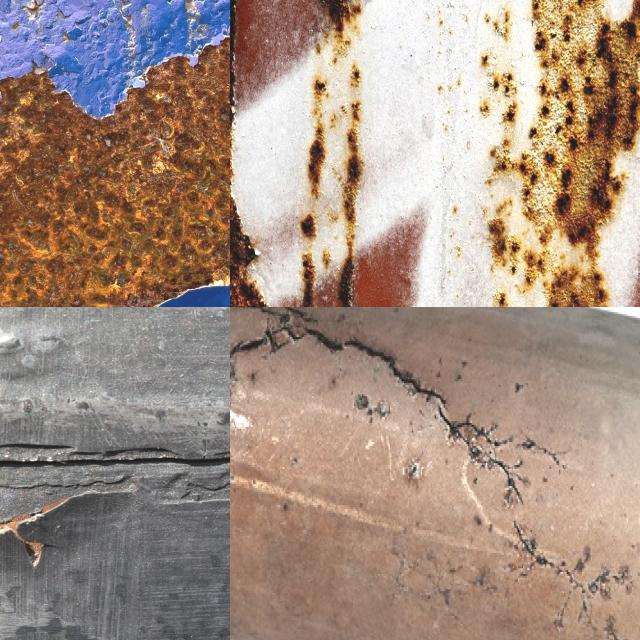Crack: (230, 307, 640, 640)
Pitting Corrosion: (0, 38, 230, 307), (230, 0, 268, 307), (299, 77, 328, 239), (342, 100, 362, 258), (320, 0, 354, 32), (302, 246, 316, 307)
